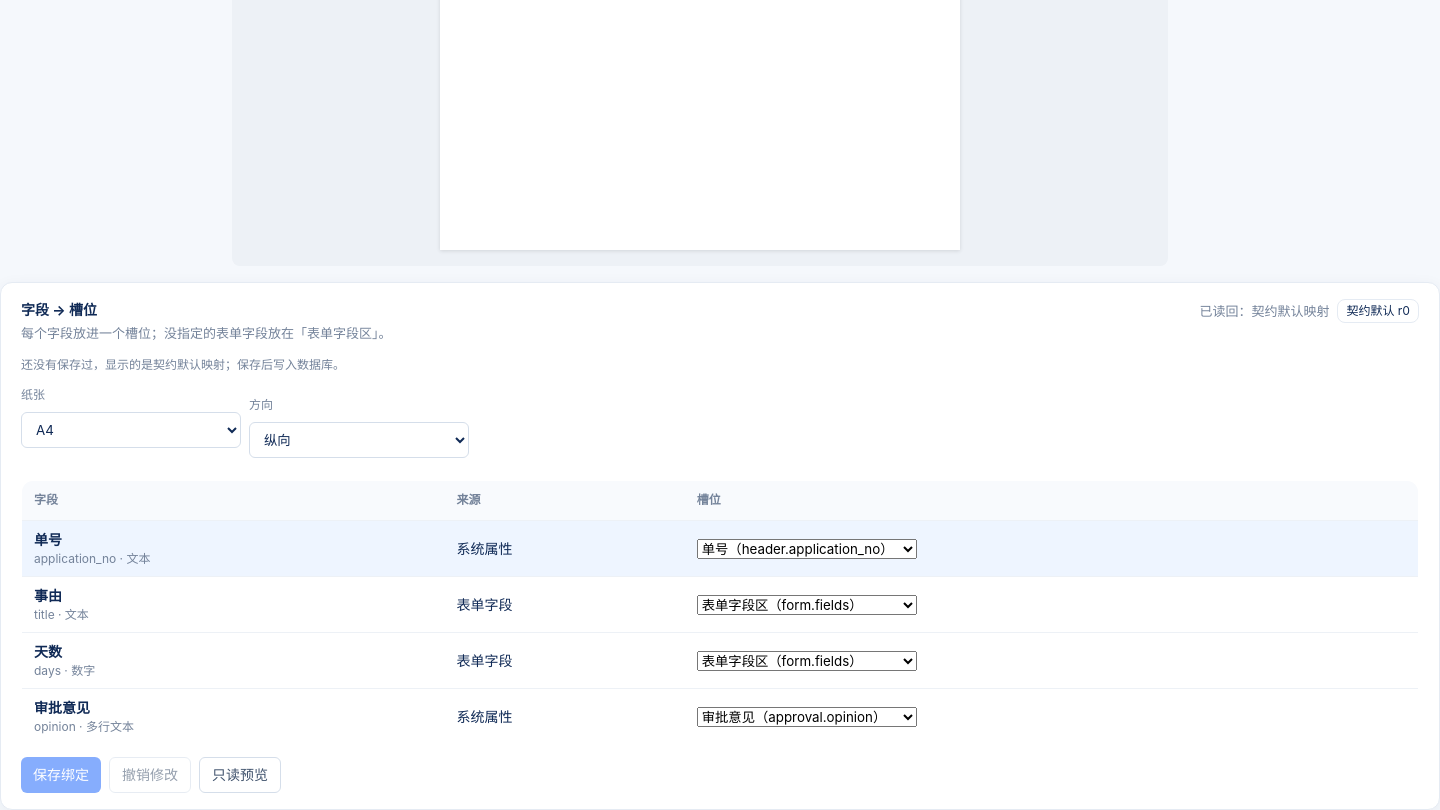
Scenario: paper and orientation share the revision guard (DPO-C5) › keeps the paper draft and reuses the conflict shell on 409
The width and height of the screenshot is (1440, 810).
(page scrolled)
Select "Letter" in the dropdown with test id "designer-paper-size" at (131, 430), box [21,412,241,448]
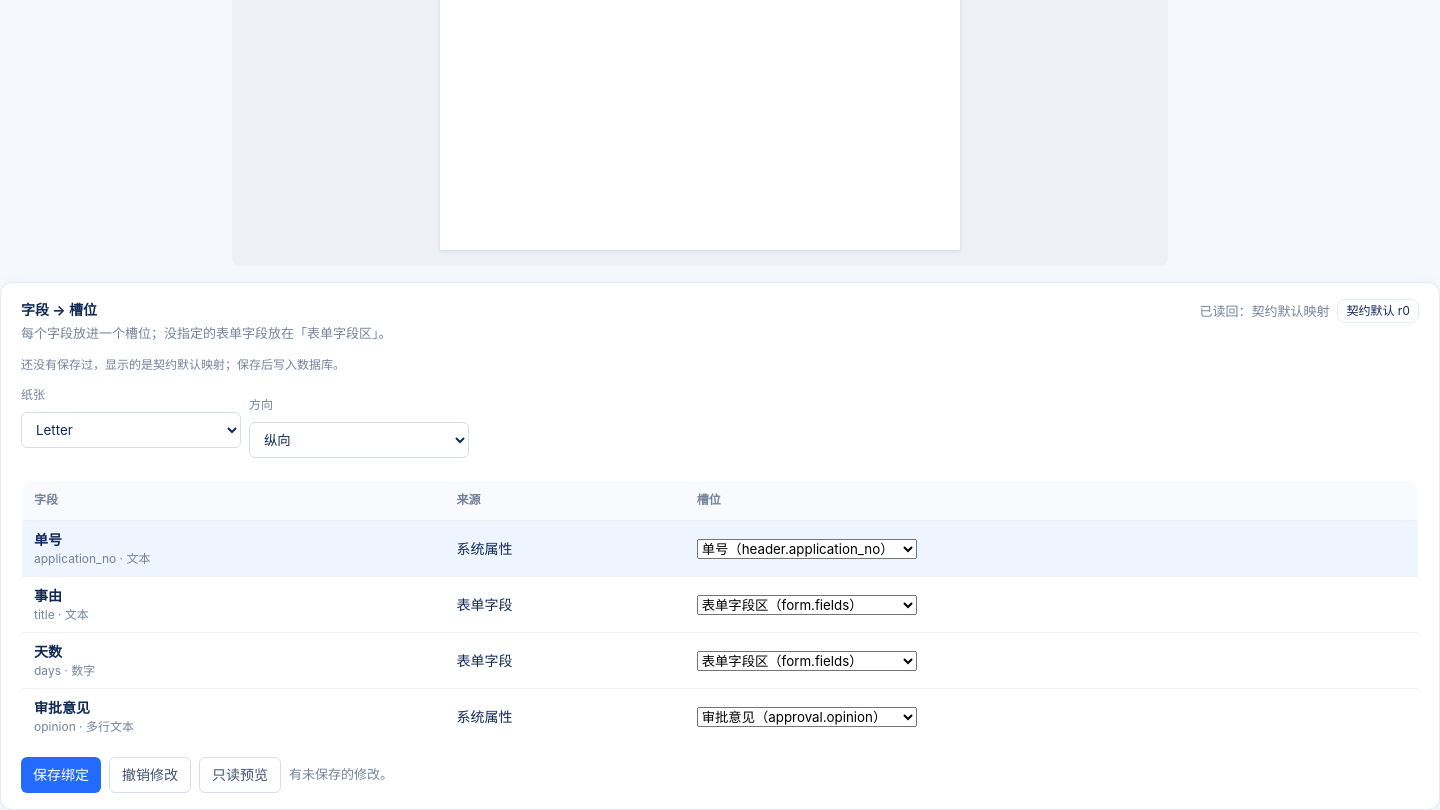
Click the button with test id "designer-binding-save" at (61, 775), box [21,757,101,793]
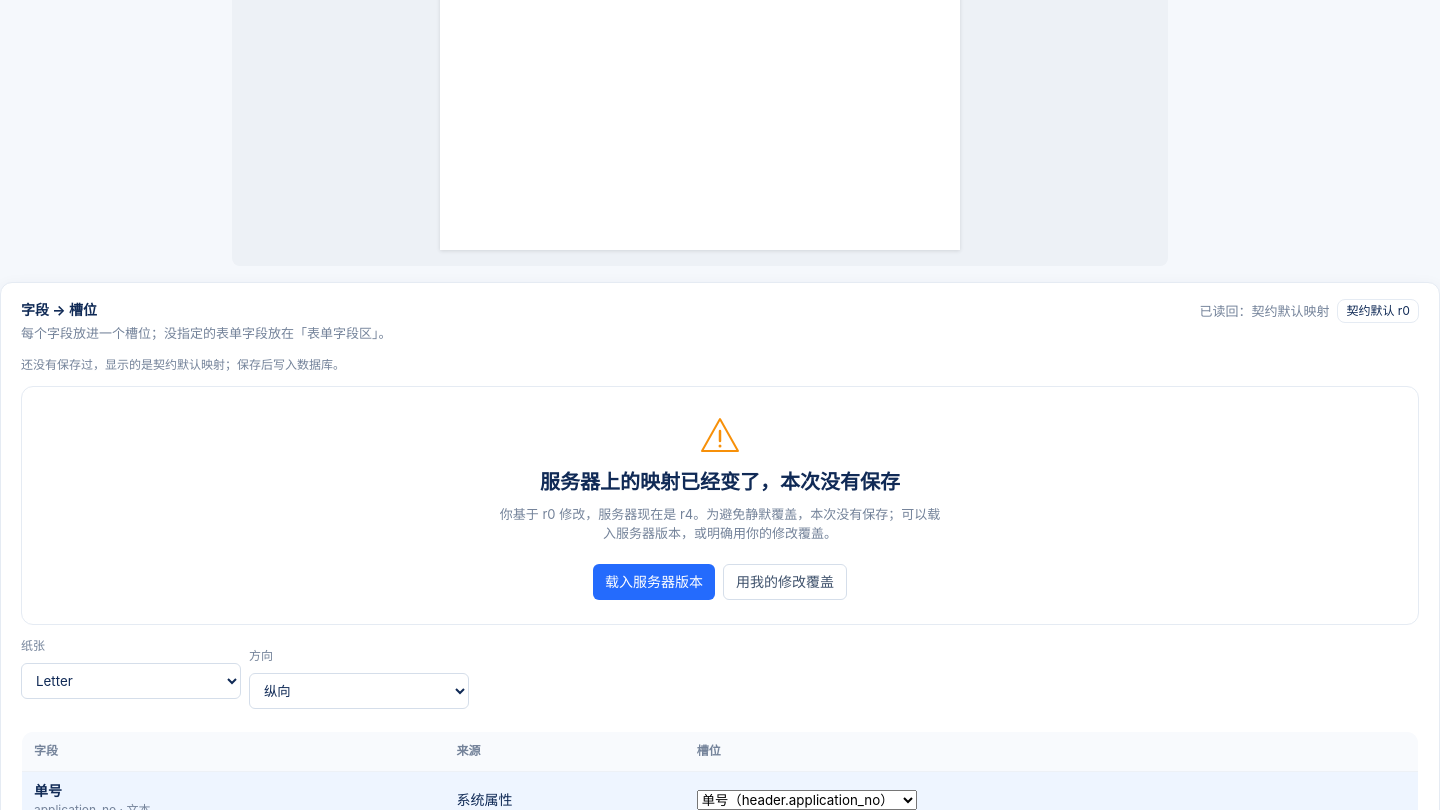
Result: the message with test id "designer-binding-conflict" shows "本次没有保存" at [540,470,900,494]
